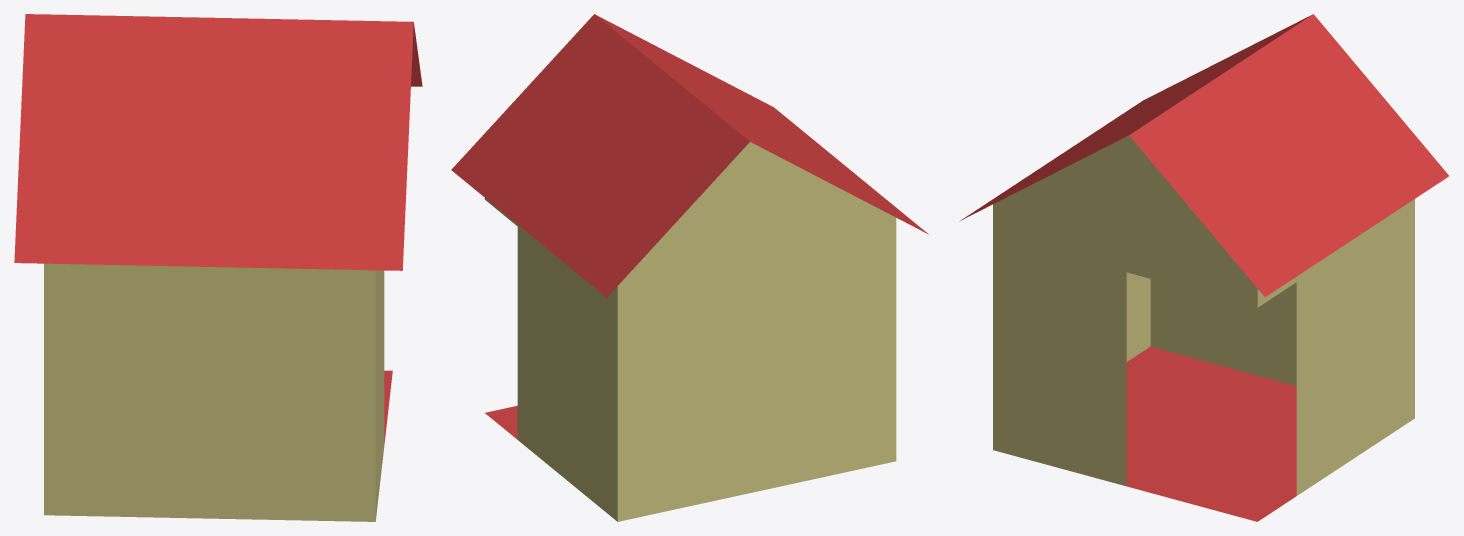
3 renders of one model, left to right at view 1: azimuth 30°, elevation 25°; view 2: azimuth 150°, elevation 25°; view 3: azimuth 270°, elevation 25°, orthographic. The views are drawn at different scales.
Size of the model in its own units: 14.54 by 14.75 by 12.07.
